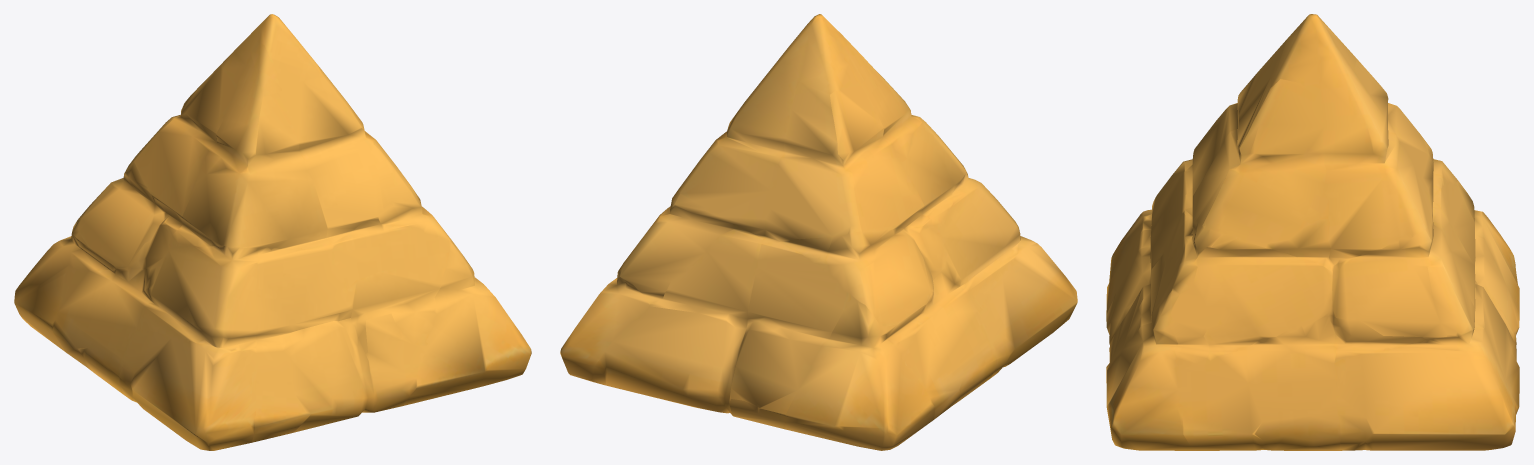
File: pyramide.glb
The picture shows the model from 3 angles, left to right: view 1: azimuth 30°, elevation 25°; view 2: azimuth 150°, elevation 25°; view 3: azimuth 270°, elevation 25°; orthographic projection. The views are drawn at different scales.
Parts seen in each view (by area): view 1: mesh_node; view 2: mesh_node; view 3: mesh_node.
Part boxes in pixels (box(x1,y1,x2,y2)): mesh_node: box(14, 14, 531, 450); mesh_node: box(560, 14, 1077, 450); mesh_node: box(1106, 14, 1519, 450).
Bounding box in the file's own units: 1.9 × 1.81 × 1.9.
1 material, 1 textured.
